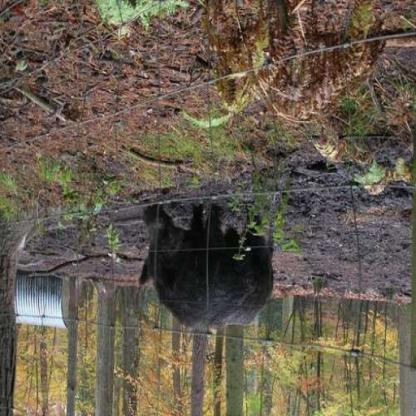boar: (133, 186, 292, 340)
